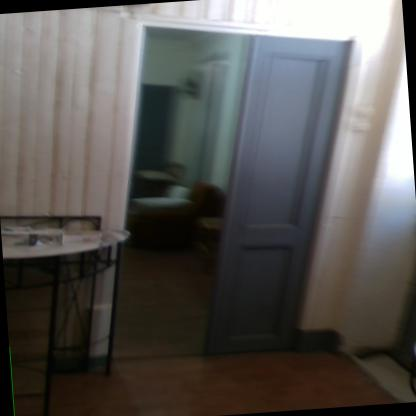open: (81, 1, 386, 378)
